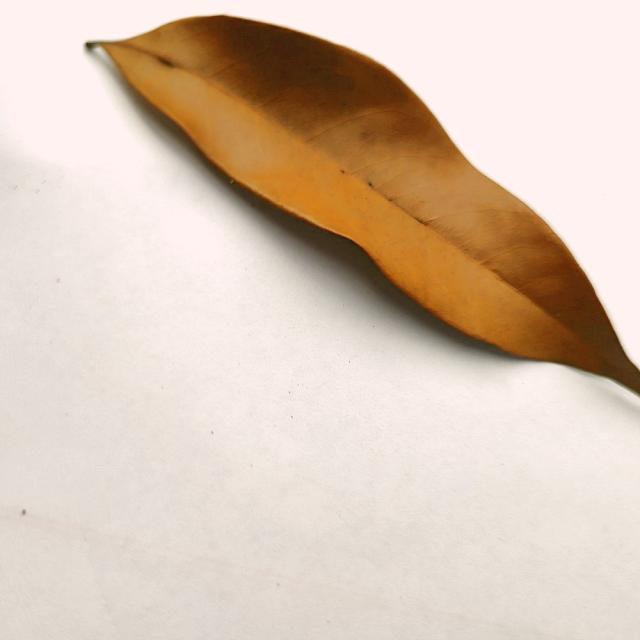Dry_Leaf-Lychee: (88, 14, 639, 399)
